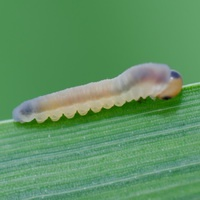insect: (13, 63, 181, 121)
